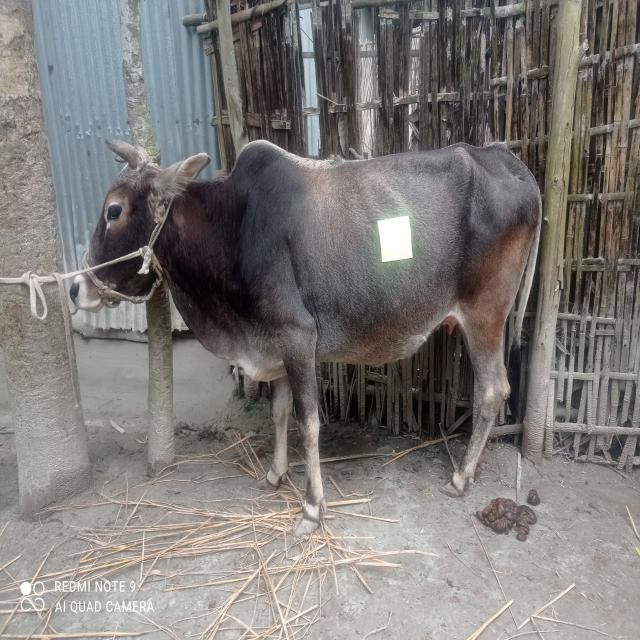badan_sapi: (242, 141, 530, 383)
sapi: (59, 131, 544, 540)
